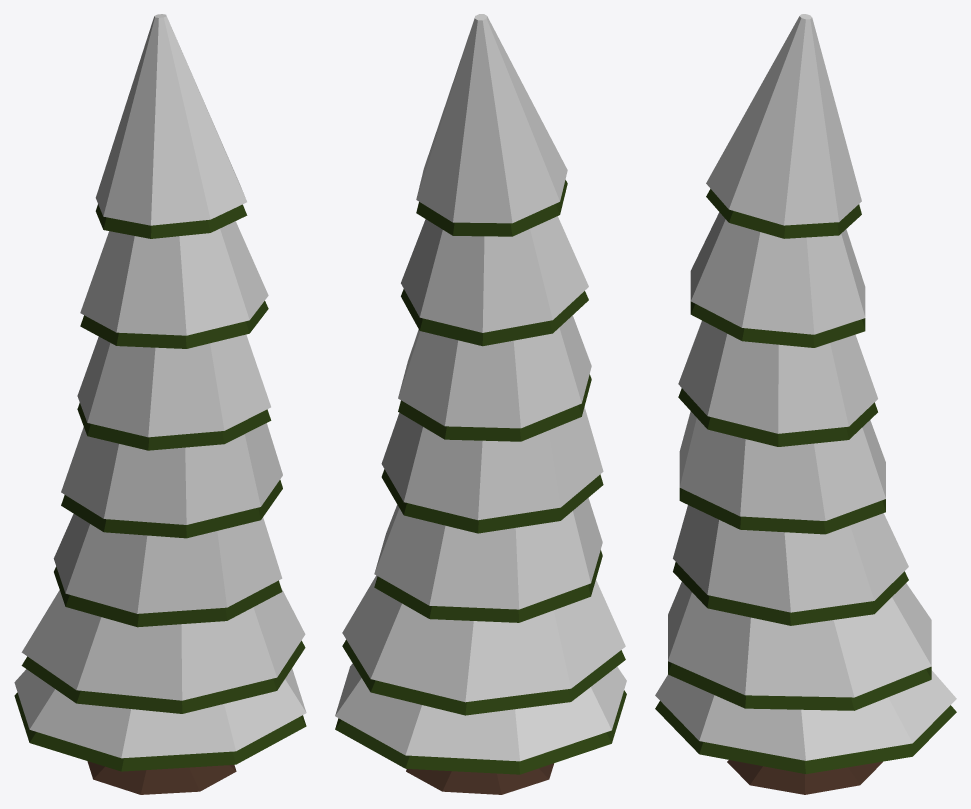
The model's file is SnowPineTree005.fbx.
The picture shows the model from 3 angles, left to right: view 1: azimuth 30°, elevation 25°; view 2: azimuth 150°, elevation 25°; view 3: azimuth 270°, elevation 25°; orthographic projection.
Visible parts, largest first — view 1: Cylinder.010; view 2: Cylinder.010; view 3: Cylinder.010.
Boxes of the visible parts, x1,y1,x2,y2 form: Cylinder.010: [14, 14, 306, 794]; Cylinder.010: [335, 14, 626, 794]; Cylinder.010: [655, 14, 956, 794].
Size of the model in its own units: 828 by 2258 by 828.
